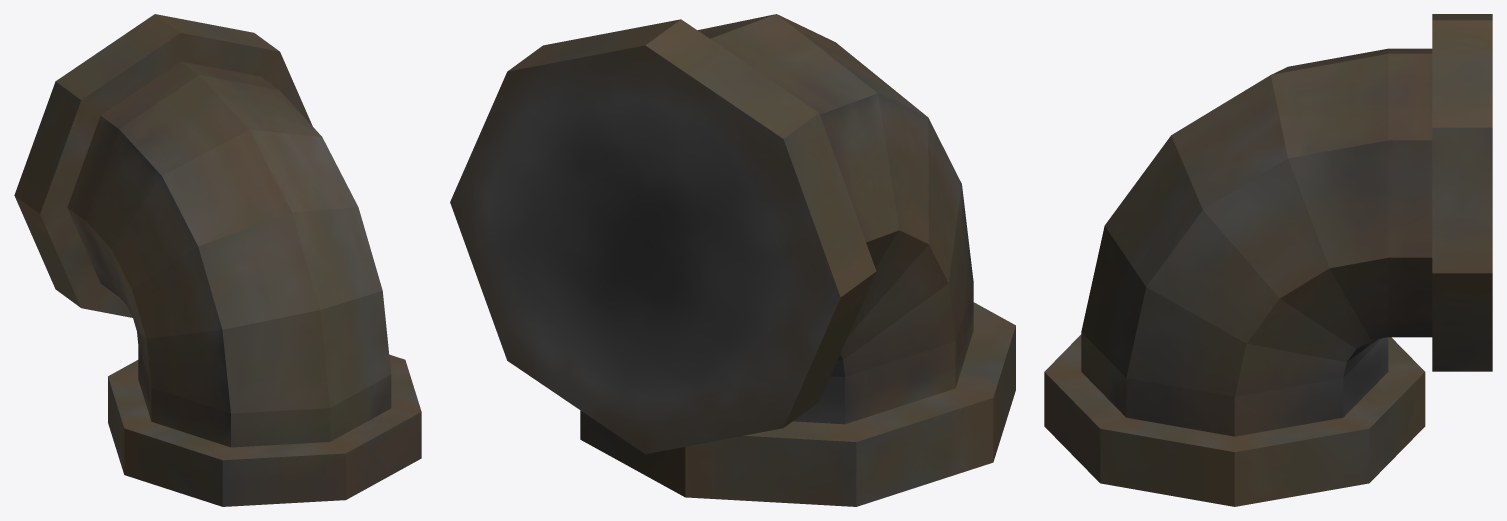
Rendered from pipe_corner_grime.fbx.
The picture shows the model from 3 angles, left to right: view 1: azimuth 30°, elevation 25°; view 2: azimuth 150°, elevation 25°; view 3: azimuth 270°, elevation 25°; orthographic projection. The views are drawn at different scales.
Visible parts, largest first — view 1: pipe_corner_grime; view 2: pipe_corner_grime; view 3: pipe_corner_grime.
Boxes of the visible parts, x1,y1,x2,y2 form: pipe_corner_grime: [14, 14, 421, 506]; pipe_corner_grime: [450, 14, 1015, 506]; pipe_corner_grime: [1044, 14, 1492, 506].
Bounding box in the file's own units: 0.124 × 0.146 × 0.146.
Materials: 1 (1 with a texture image).
